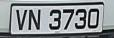0: (88, 7, 101, 31)
3: (48, 7, 63, 33), (74, 7, 88, 32)
7: (62, 7, 76, 32)
N: (29, 6, 43, 35)
V: (15, 8, 28, 33)
